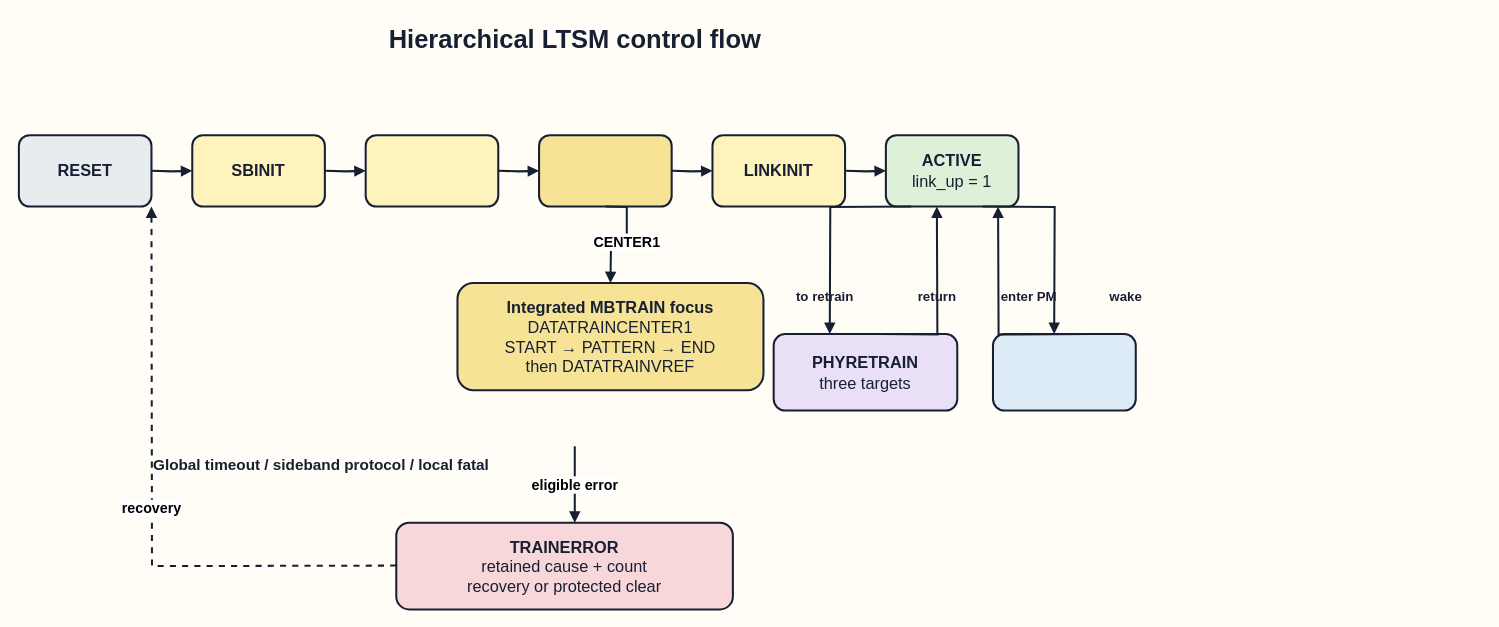
This 1499x627 diagram has some shape labels left out. Each missing label, with the box of its shape:
L1 / L2 low power: (991, 333, 1136, 411)
MBINIT 6 substates: (364, 134, 499, 207)
MBTRAIN 13 substates: (538, 134, 672, 207)
